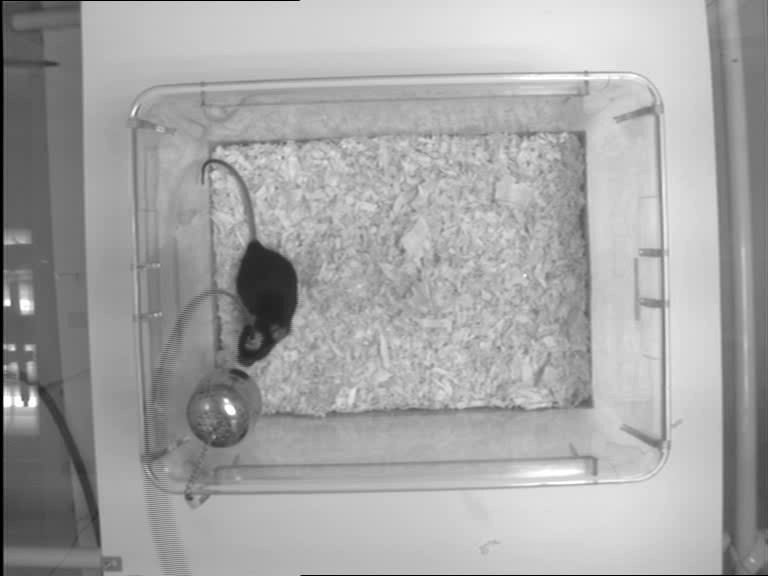mice: (200, 156, 301, 367)
